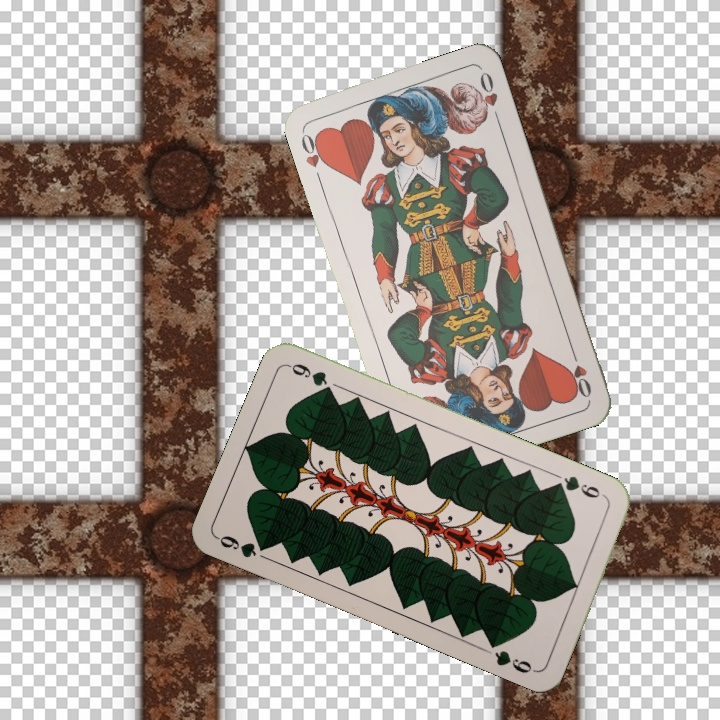G9: (550, 472, 610, 502), (214, 531, 274, 561)
HO: (566, 343, 594, 401), (297, 126, 331, 171)
